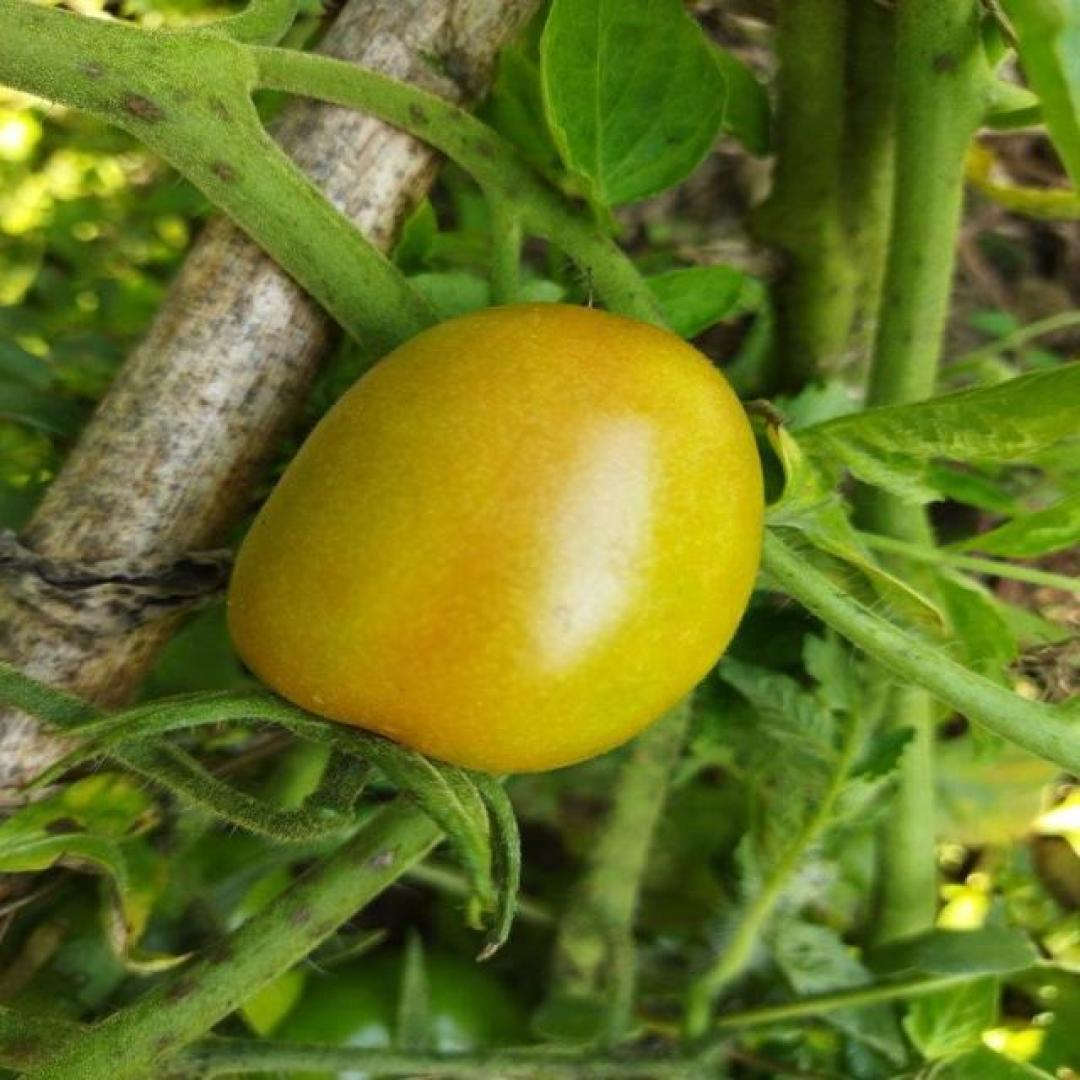setengah_matang: (216, 297, 770, 780)
